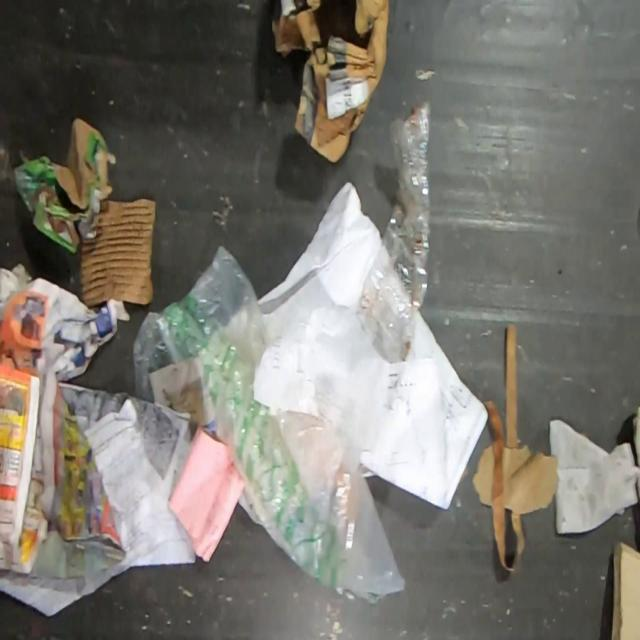cardboard: (271, 0, 391, 164), (12, 116, 116, 257), (78, 199, 156, 308), (502, 444, 558, 514), (610, 541, 640, 640), (471, 440, 494, 506)
soft_plastic: (132, 243, 407, 604), (358, 100, 433, 362)
